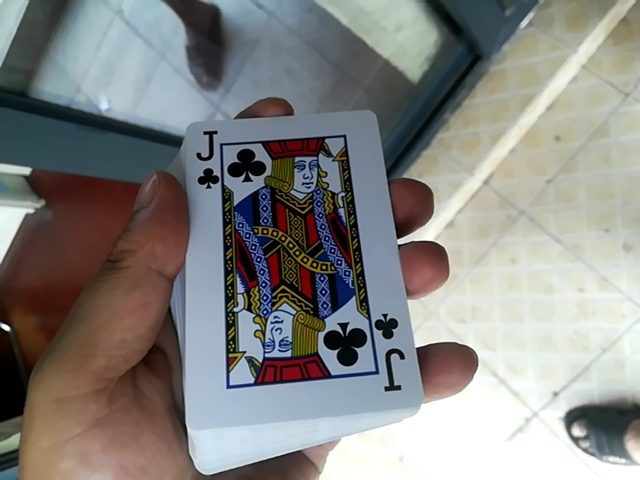mh j: (178, 49, 421, 445)
